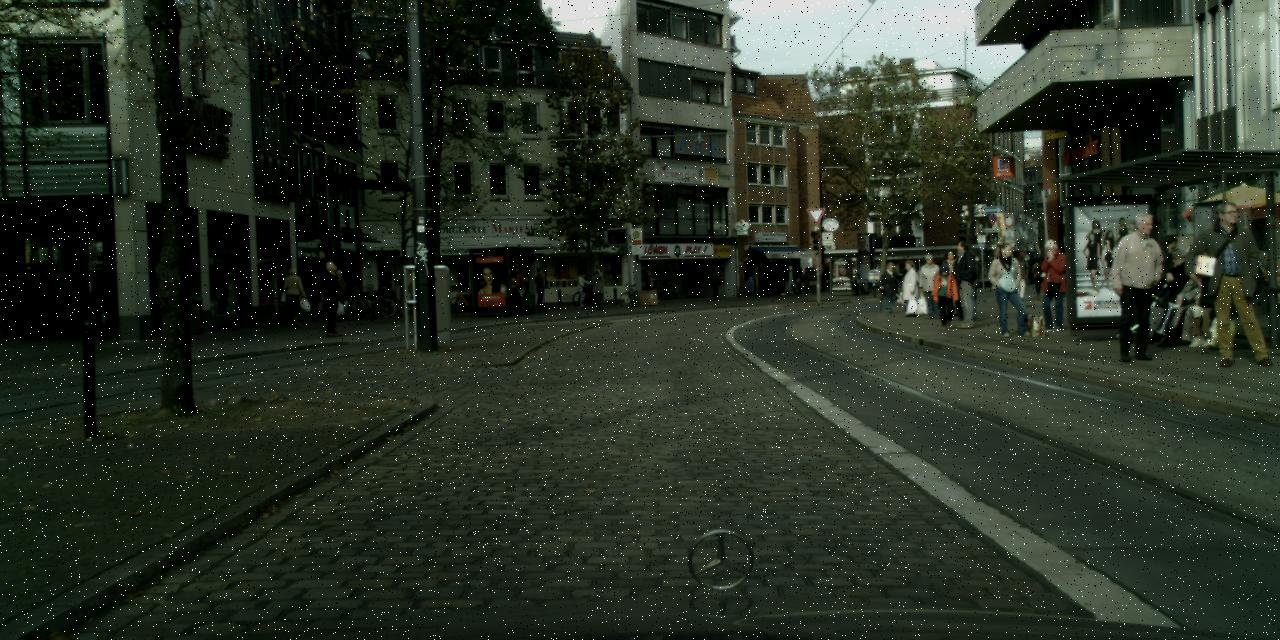ped: (1202, 202, 1270, 366), (1108, 212, 1168, 362), (990, 242, 1028, 336), (1032, 238, 1070, 331), (947, 240, 981, 326), (1152, 237, 1182, 314), (316, 261, 346, 336), (938, 249, 966, 319), (932, 261, 959, 329), (918, 253, 944, 317), (958, 258, 984, 322), (281, 267, 305, 326), (898, 259, 920, 315), (879, 262, 900, 312), (328, 270, 348, 320), (1010, 254, 1029, 300), (531, 268, 548, 311), (590, 268, 606, 309), (306, 275, 322, 314), (643, 271, 657, 305), (1030, 262, 1044, 296), (574, 272, 588, 306), (708, 266, 721, 300), (786, 265, 797, 293), (799, 267, 809, 294), (850, 268, 860, 294)
